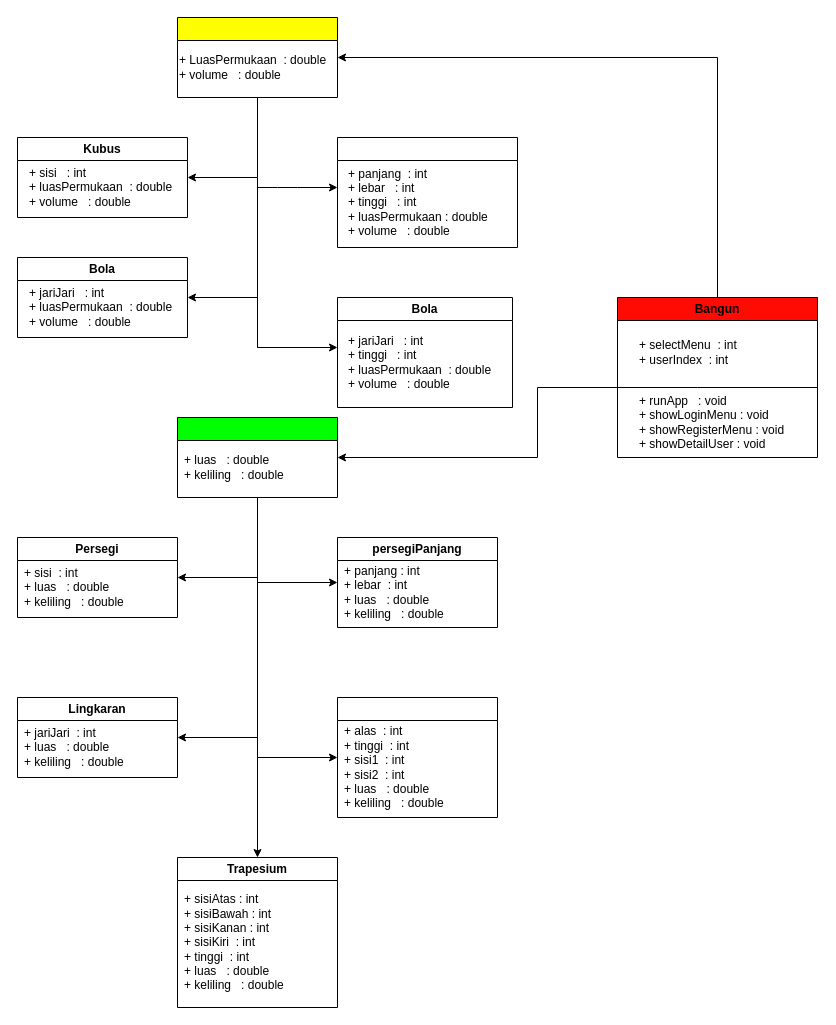
Image size: 836x1025. Some labels were removed from this diagram. The shapes that lost their labels are listed below. From the top down, each one's box as (x1, y1, x2, y2) in pixels, then its label:
(176, 16, 338, 98): BangunRuang
(336, 136, 518, 248): Balok
(176, 416, 338, 498): BangunDatar
(336, 696, 498, 818): Segitiga
